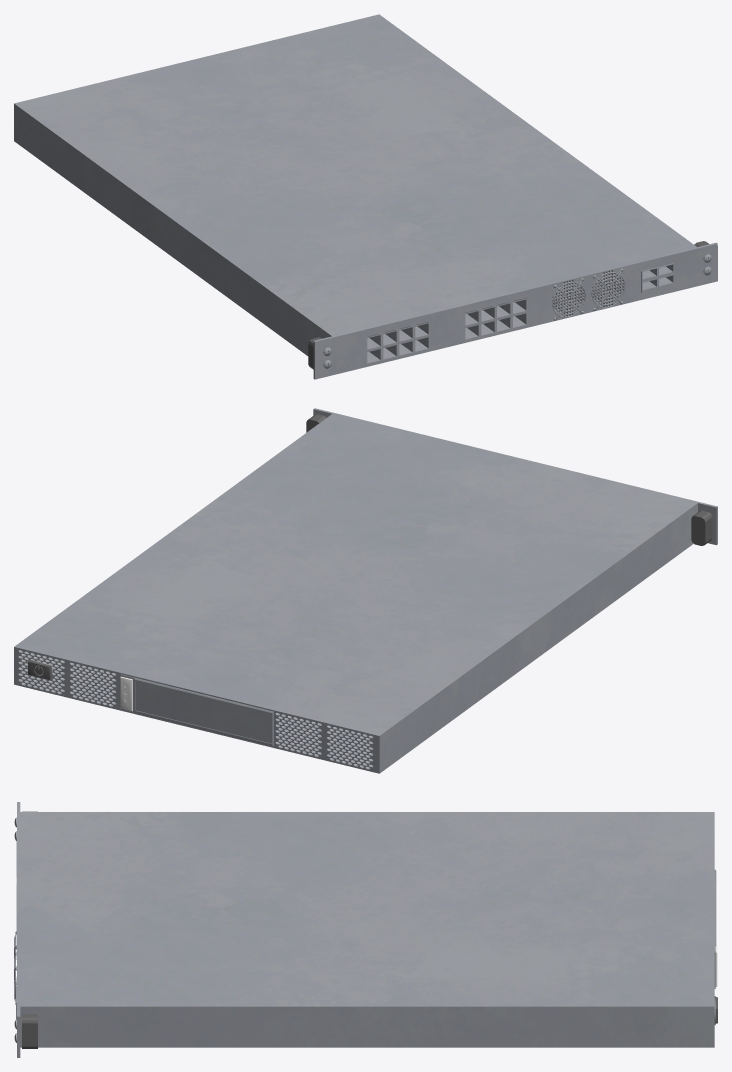
The model's file is Switch4xQSXP16xSFP.1u.glb.
3 renders of one model, top to bottom at view 1: azimuth 30°, elevation 25°; view 2: azimuth 150°, elevation 25°; view 3: azimuth 270°, elevation 25°, orthographic. The views are drawn at different scales.
Visible parts, largest first — view 1: Switch4xQSXP16xSFP; view 2: Switch4xQSXP16xSFP; view 3: Switch4xQSXP16xSFP.
Part boxes in pixels (<box>): Switch4xQSXP16xSFP: <box>14,14,717,379</box>; Switch4xQSXP16xSFP: <box>14,408,717,773</box>; Switch4xQSXP16xSFP: <box>14,802,716,1057</box>.
Bounding box in the file's own units: 0.4977 × 0.0445 × 0.6901.
5 materials, 3 textured.
